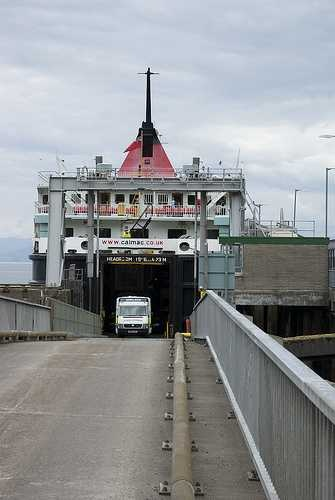Police Van: (112, 291, 169, 338)
